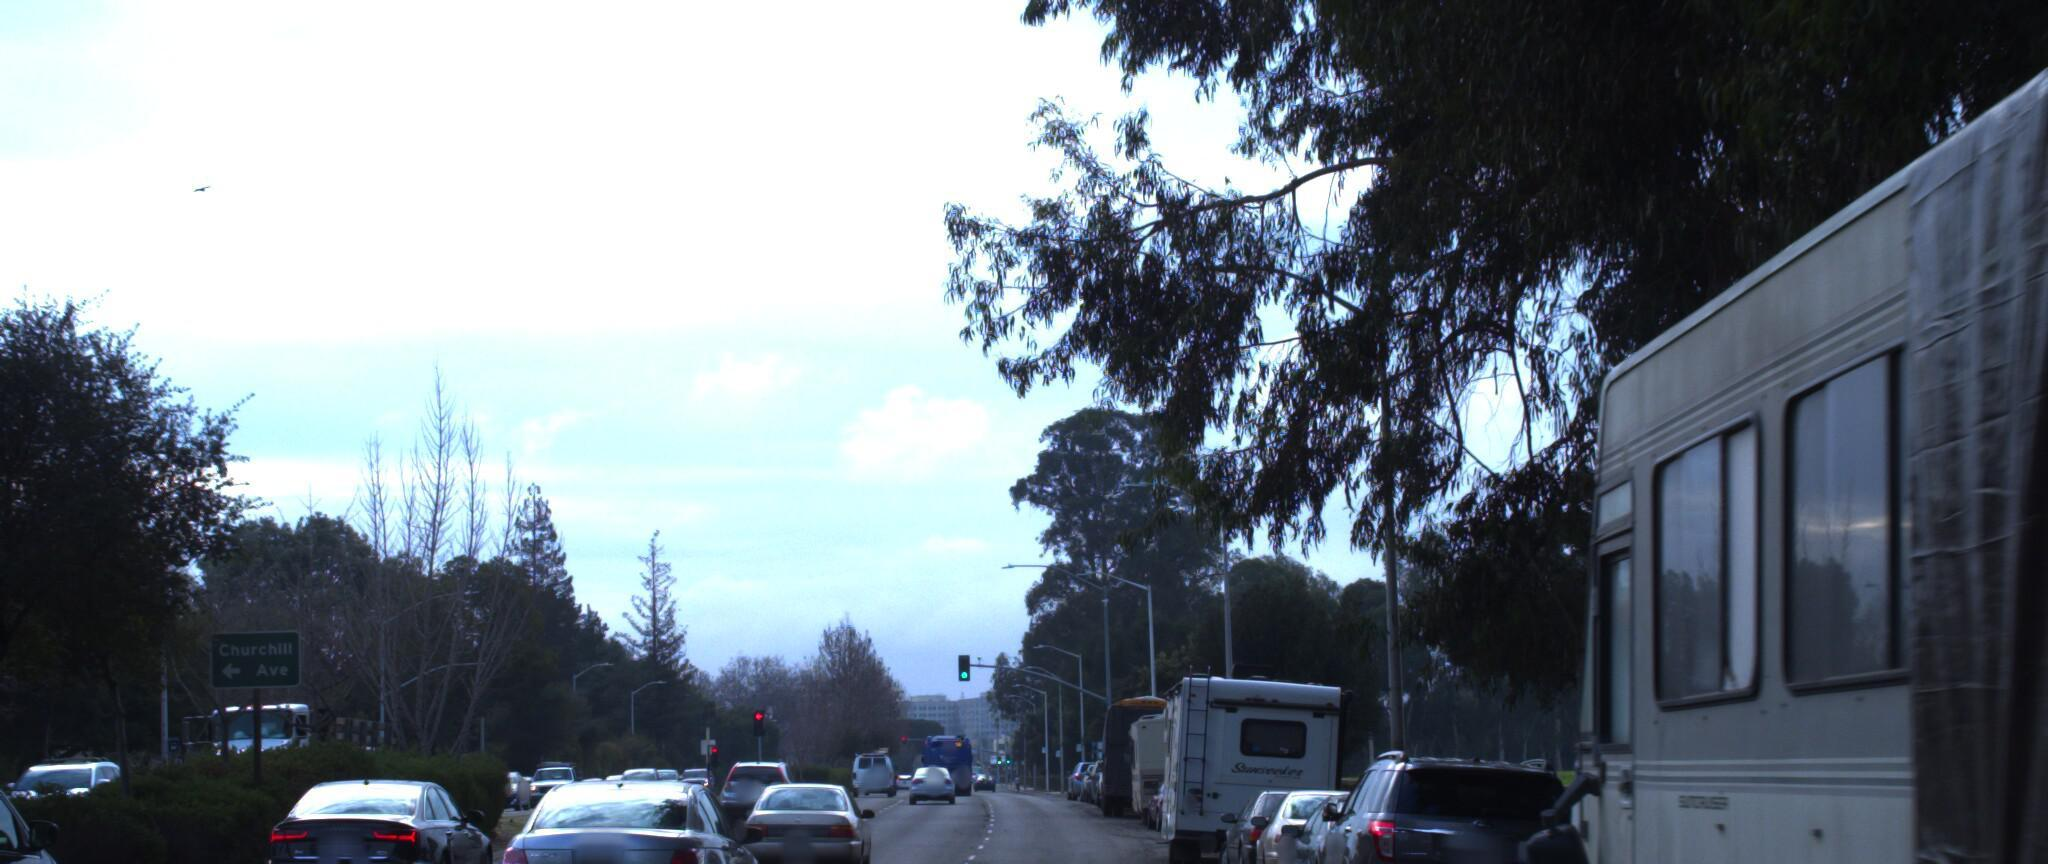car: (1292, 723, 1605, 864), (468, 766, 785, 864), (249, 767, 502, 864), (1264, 767, 1503, 864), (0, 710, 128, 864), (1241, 767, 1421, 864), (1209, 765, 1369, 864), (733, 764, 876, 864), (718, 747, 810, 816)
other_vehicle: (1502, 0, 2048, 864), (1144, 647, 1358, 860), (1121, 694, 1238, 807)
truck: (155, 700, 419, 825)
